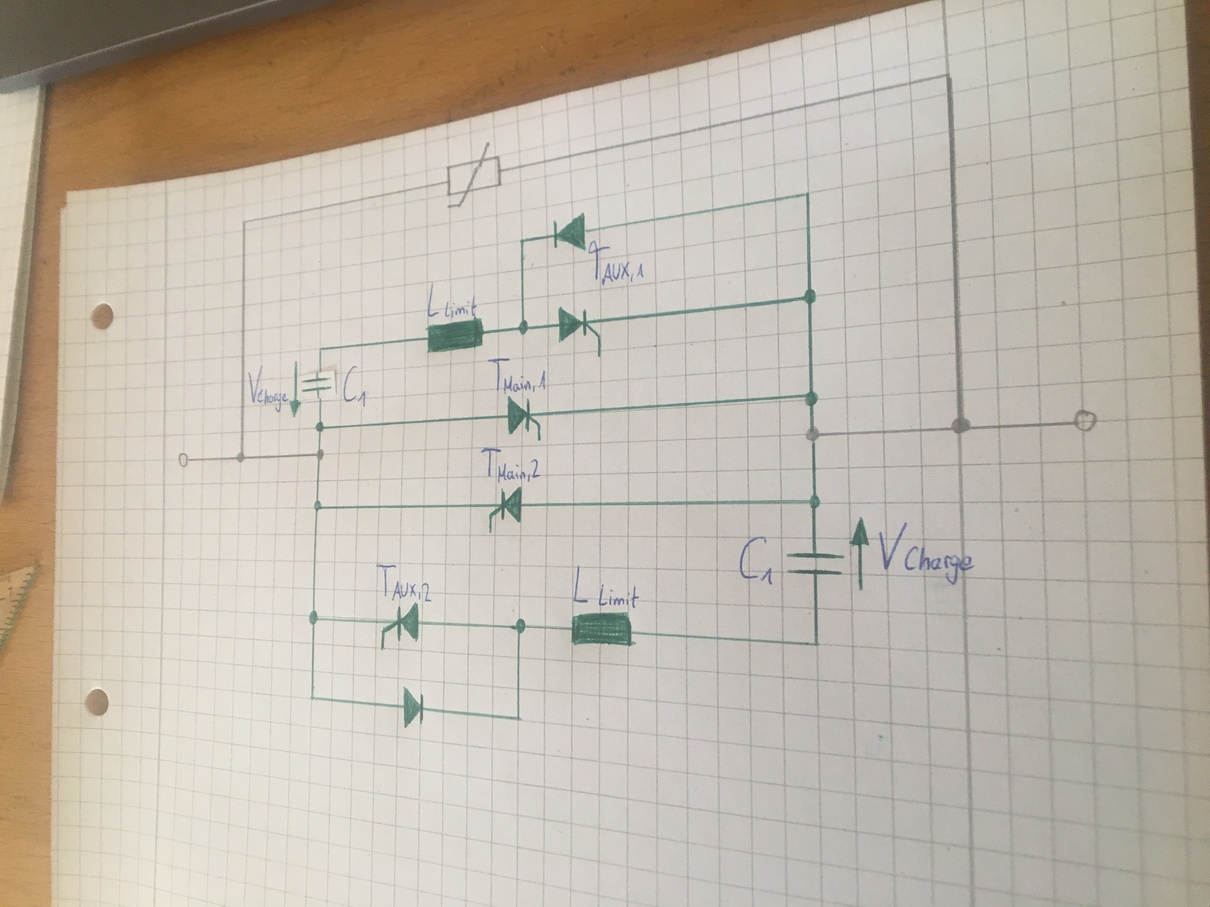capacitor.unpolarized: (784, 548, 848, 582), (299, 370, 336, 400)
diode: (552, 212, 588, 252), (402, 685, 425, 730)
inductor: (570, 611, 635, 650), (425, 317, 485, 354)
junction: (948, 413, 974, 436), (803, 423, 824, 446), (802, 389, 820, 409), (801, 287, 819, 306), (809, 635, 826, 652), (512, 616, 528, 634), (940, 68, 957, 83), (808, 492, 821, 510), (517, 318, 530, 336), (307, 609, 320, 626), (313, 419, 327, 434), (235, 451, 247, 464), (315, 447, 325, 462), (801, 188, 813, 200), (513, 712, 524, 724), (313, 499, 322, 512), (239, 217, 250, 227), (316, 345, 326, 354), (518, 236, 527, 246), (308, 693, 317, 702)
terminal: (1070, 406, 1101, 435), (176, 450, 194, 470)
text: (877, 520, 977, 586), (569, 563, 640, 610), (587, 239, 646, 286), (375, 562, 434, 604), (479, 446, 542, 484), (486, 356, 548, 394), (736, 534, 776, 586), (247, 364, 289, 412), (426, 282, 478, 318), (341, 364, 367, 408)
thyristor: (379, 601, 420, 647), (557, 305, 602, 346), (487, 485, 524, 532), (506, 394, 543, 438)
varistor: (444, 140, 503, 209)
